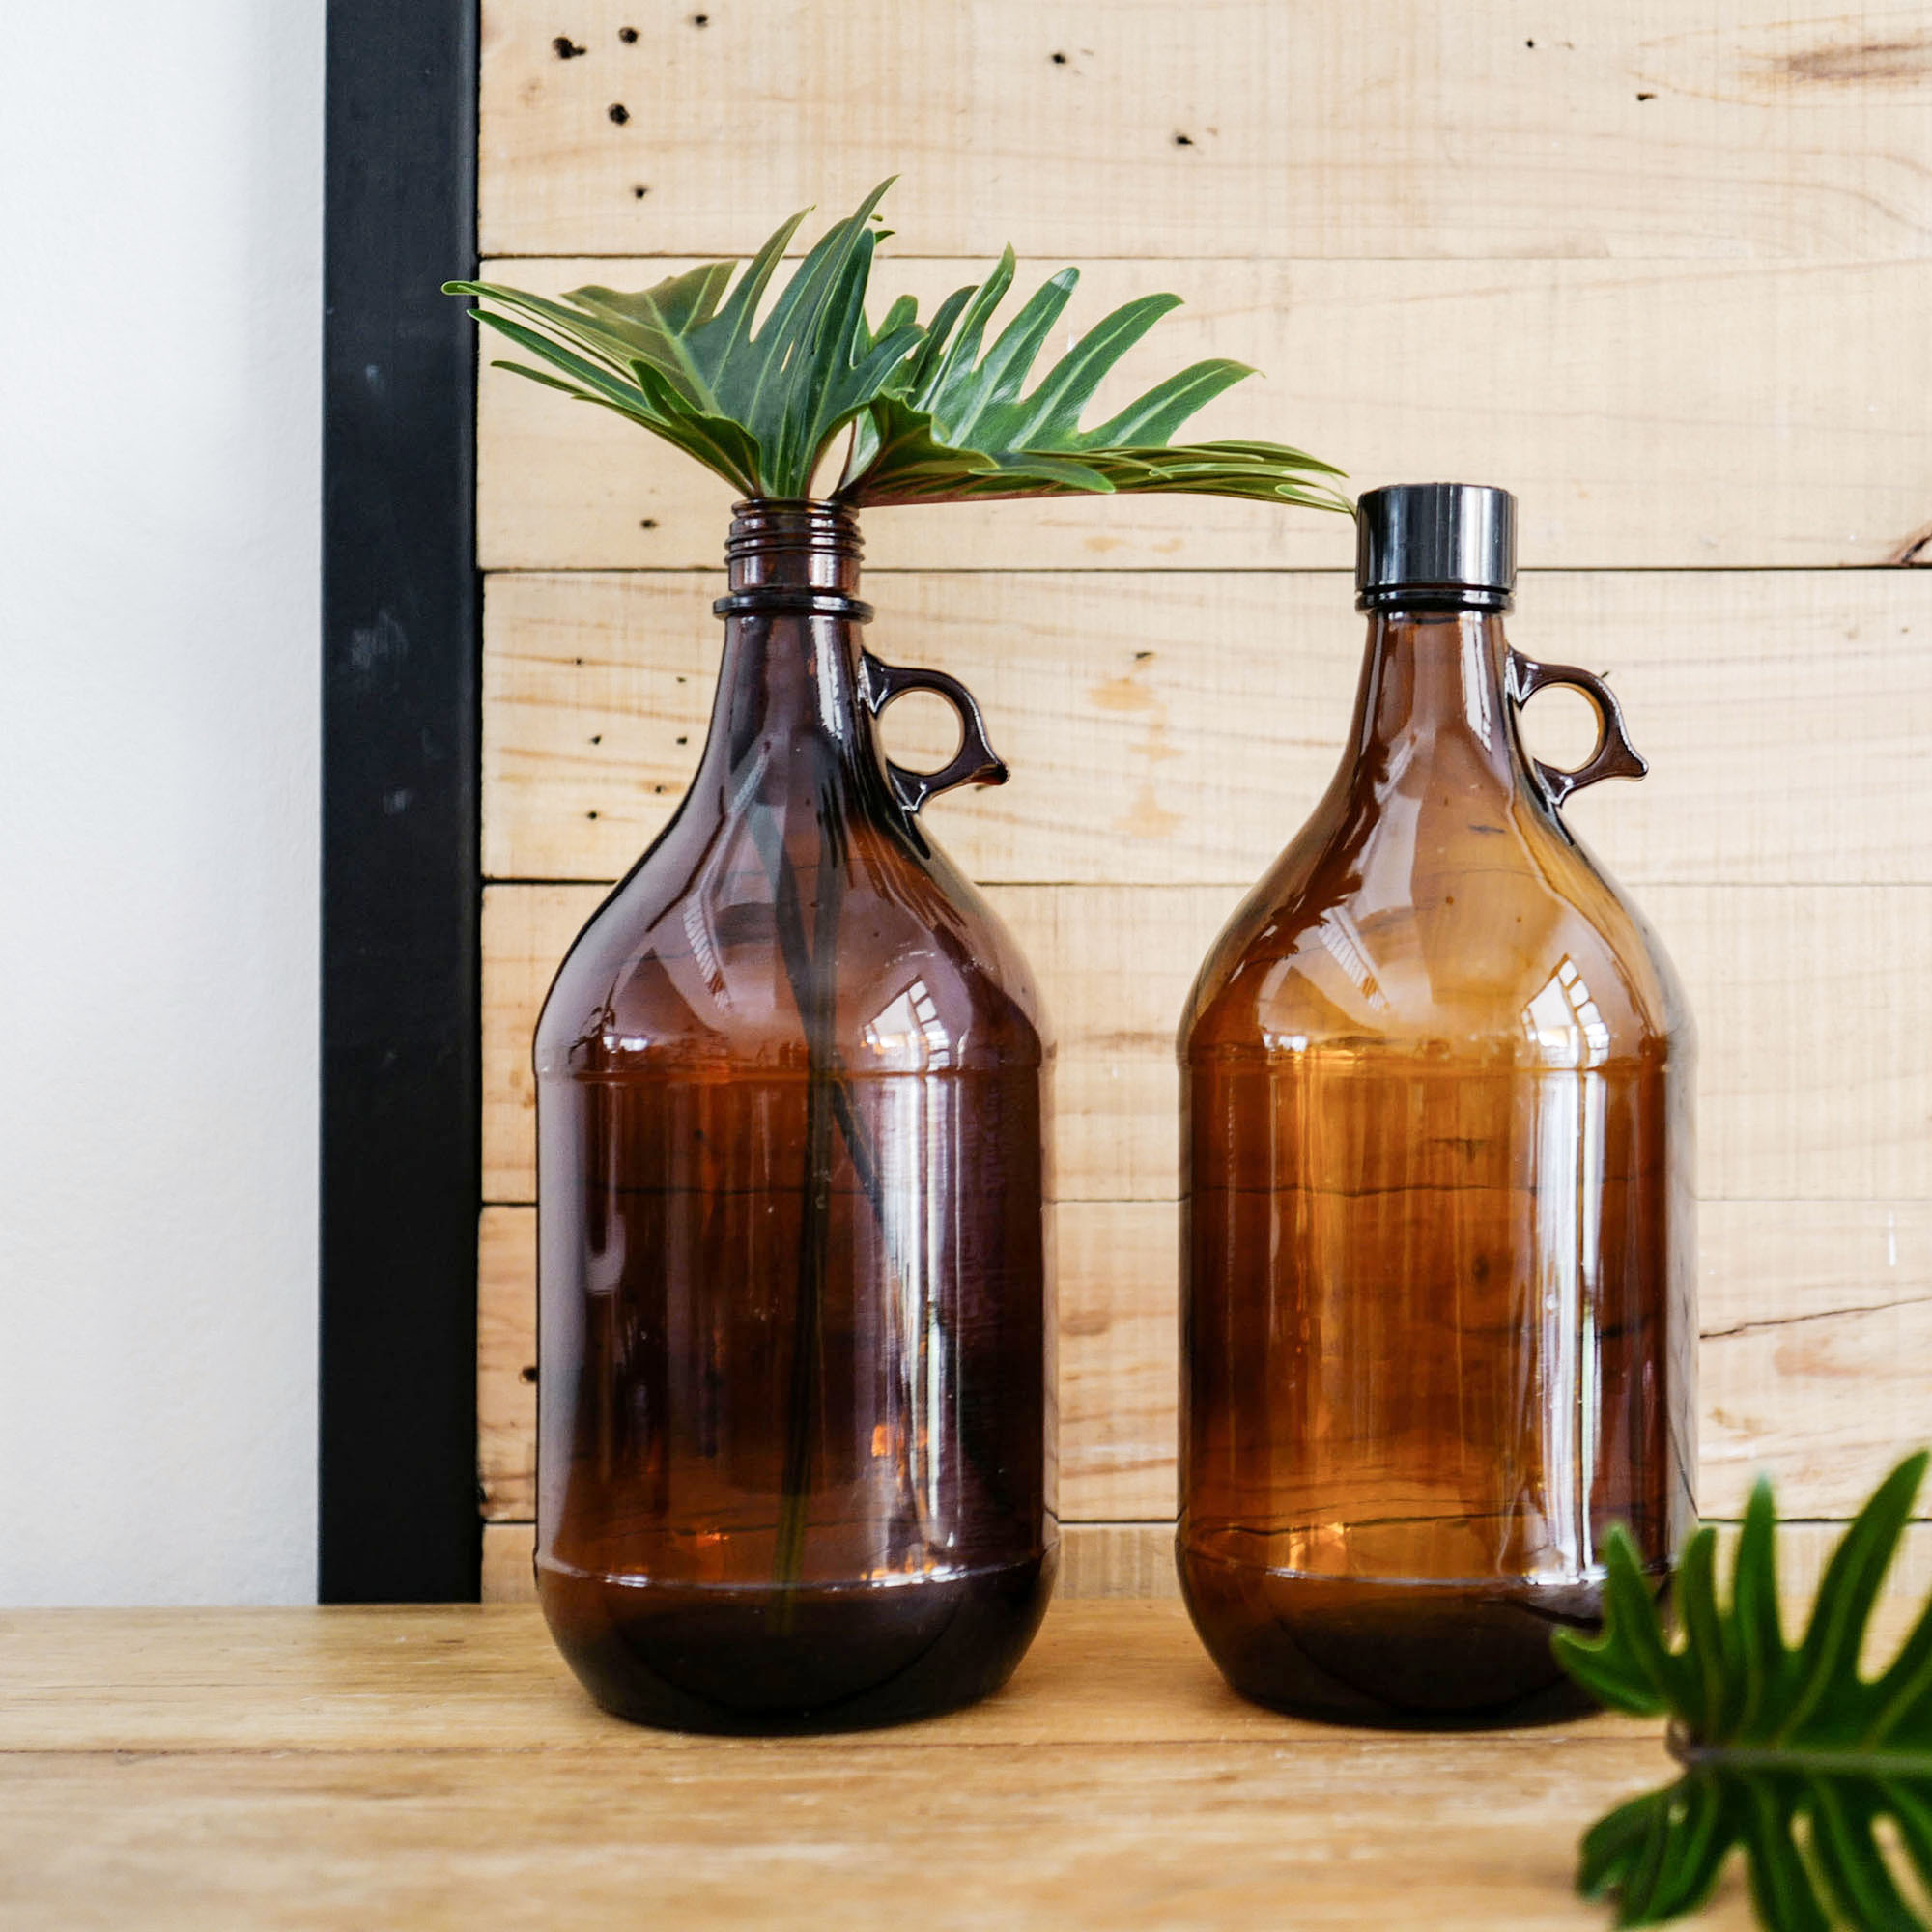glass_bottleww: (511, 476, 1077, 1755), (1168, 465, 1714, 1755)
